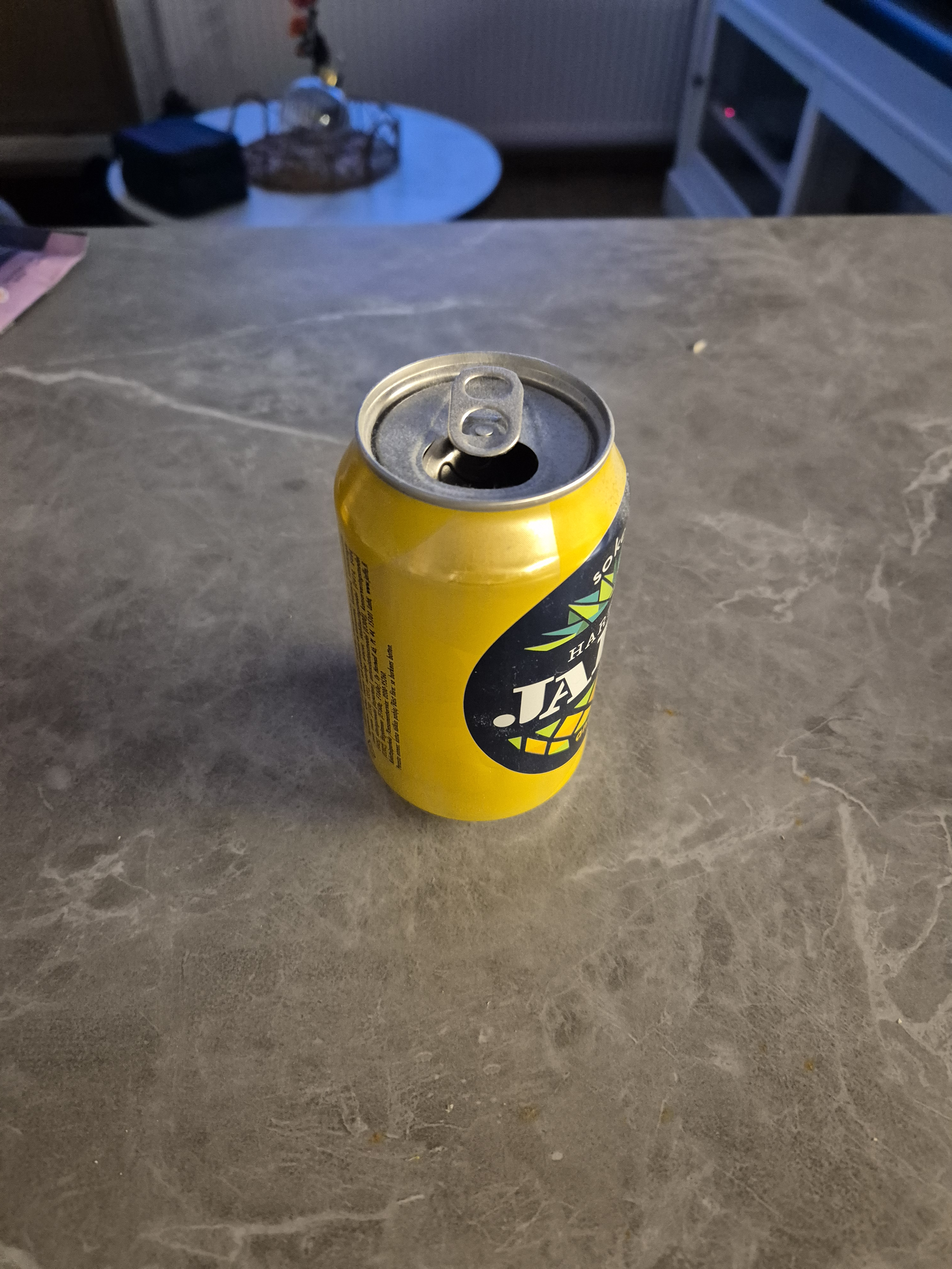Pantburk: (333, 347, 632, 823)
